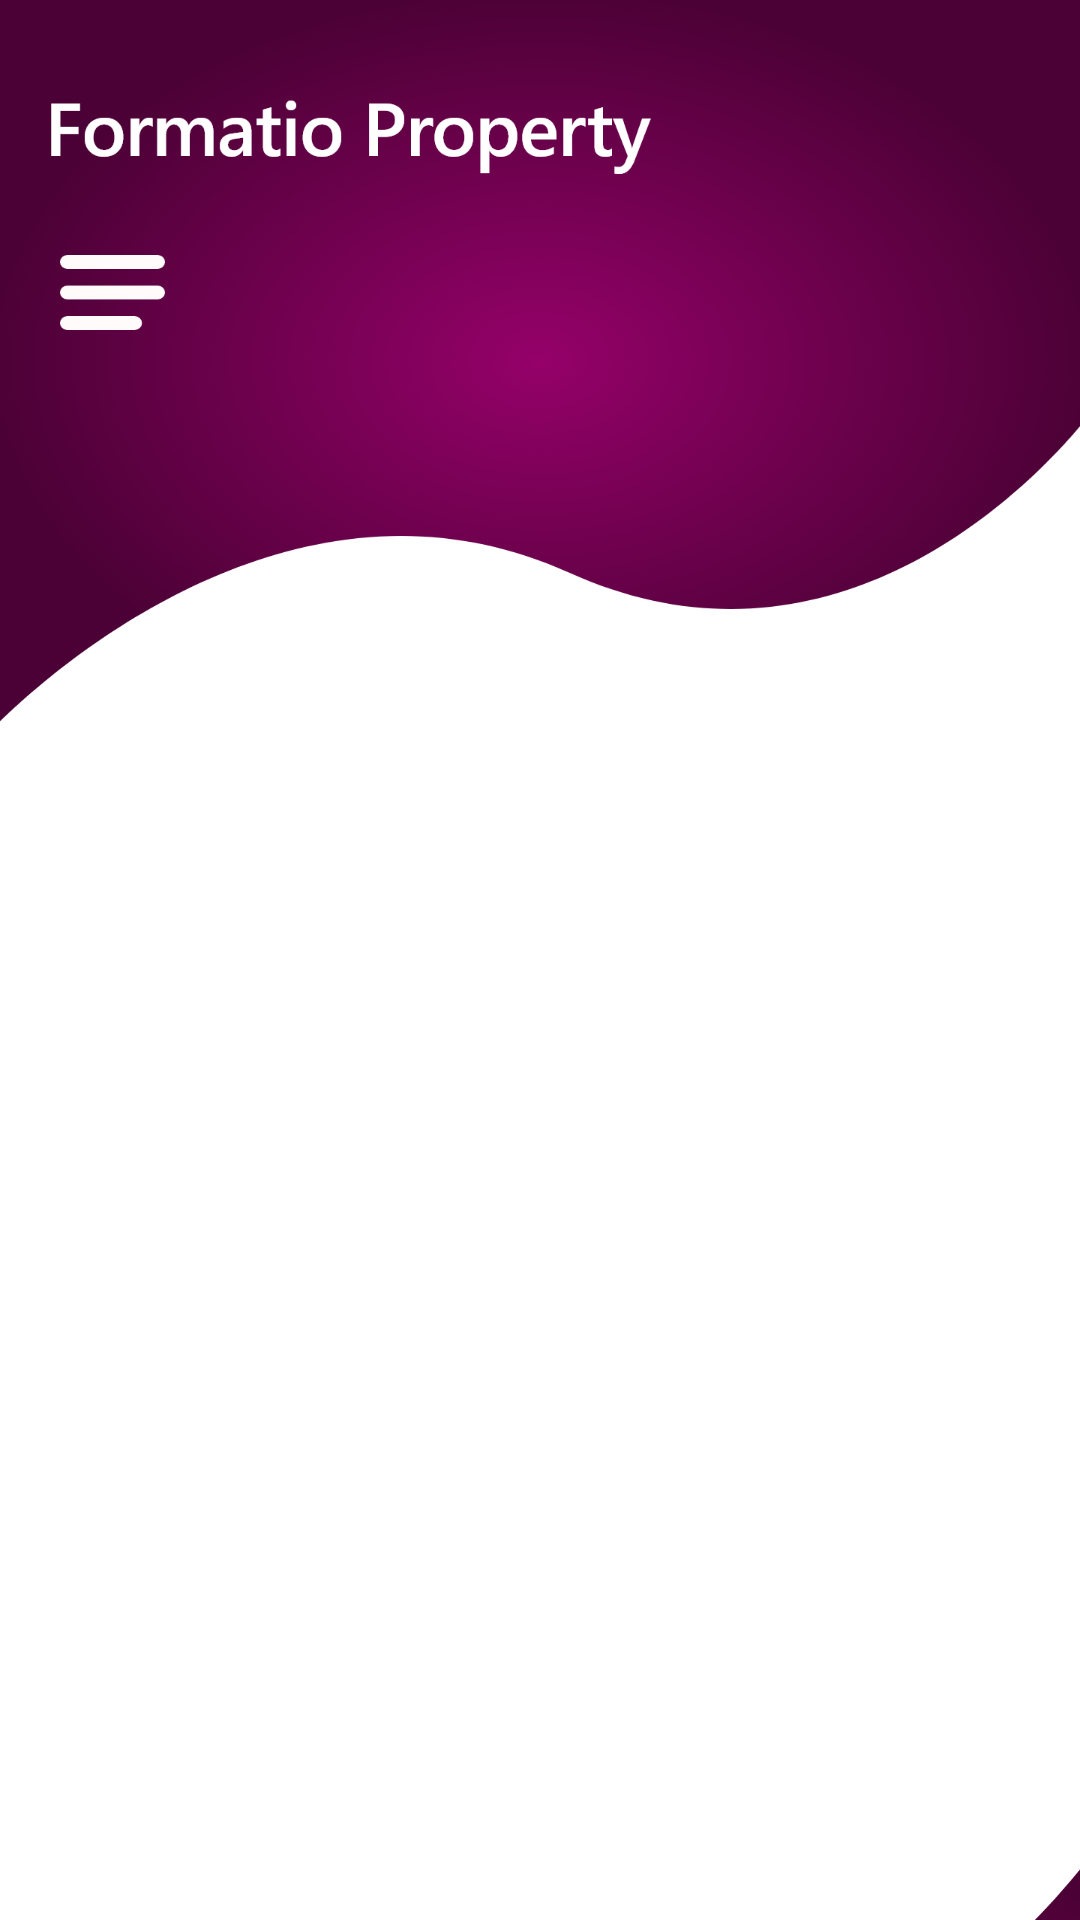

Named icons in this screenshot (1080px×1920px) and their bounding boxes, [x1=x1, y1=y1, x2=x2, y2=y2]:
menuicon: [x1=60, y1=255, x2=165, y2=330]
